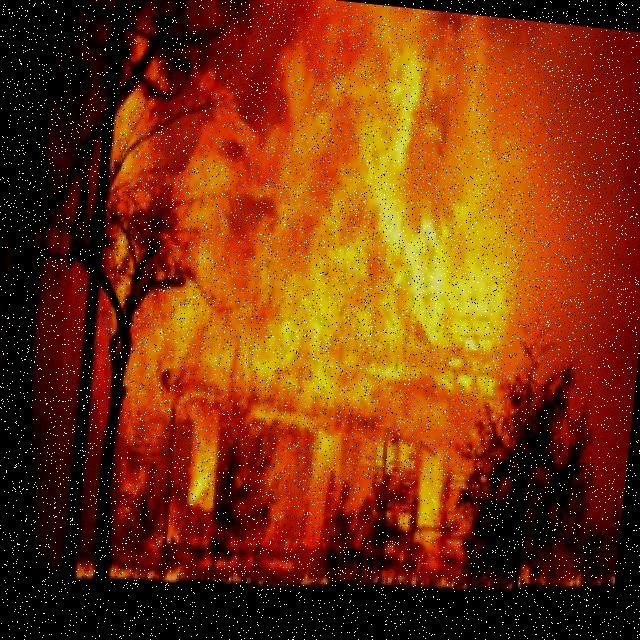Fire: (67, 0, 566, 573)
